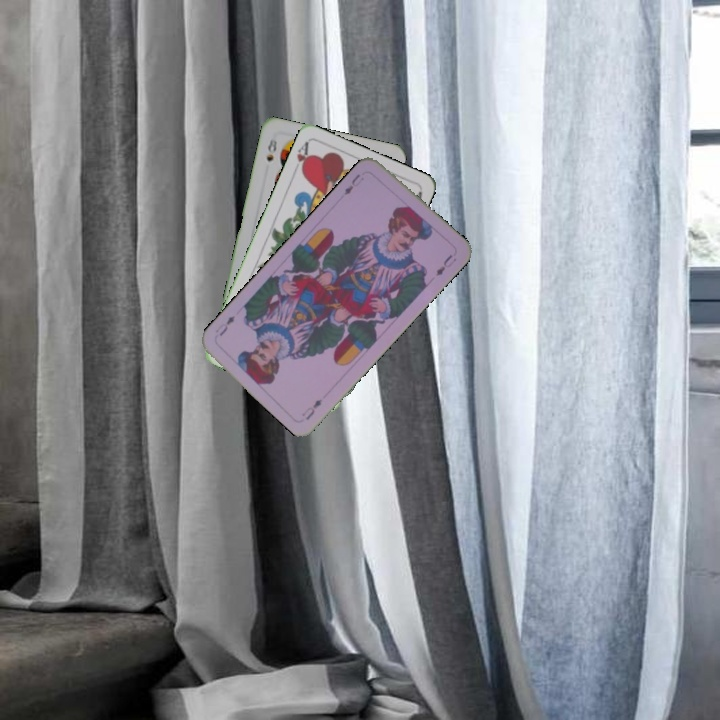EU: (340, 169, 367, 198), (298, 395, 325, 423)
HA: (289, 138, 313, 177)
S8: (262, 134, 280, 164)
